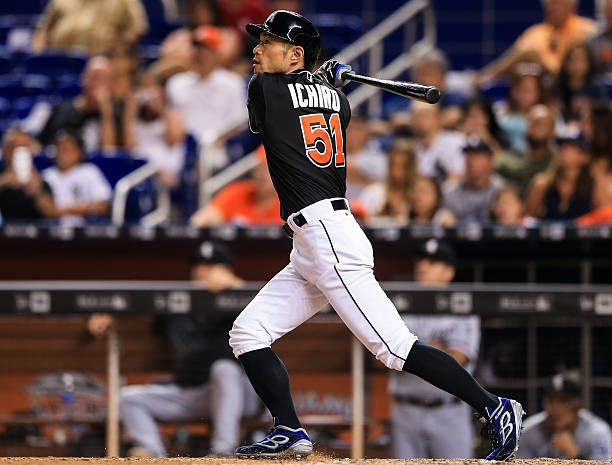bita: (340, 68, 441, 102)
